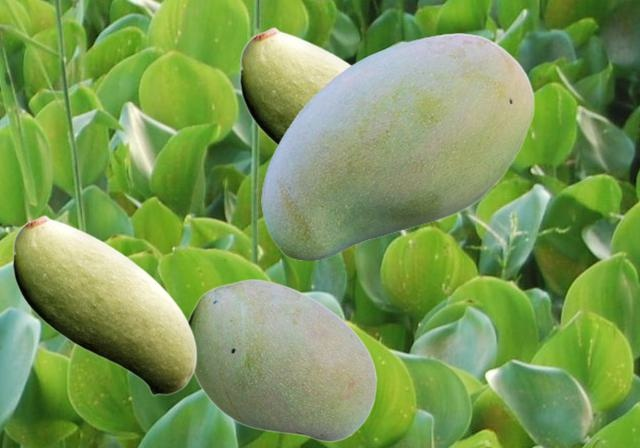green_mango: (261, 33, 534, 259), (12, 214, 196, 395), (188, 278, 376, 441), (239, 26, 352, 145)
